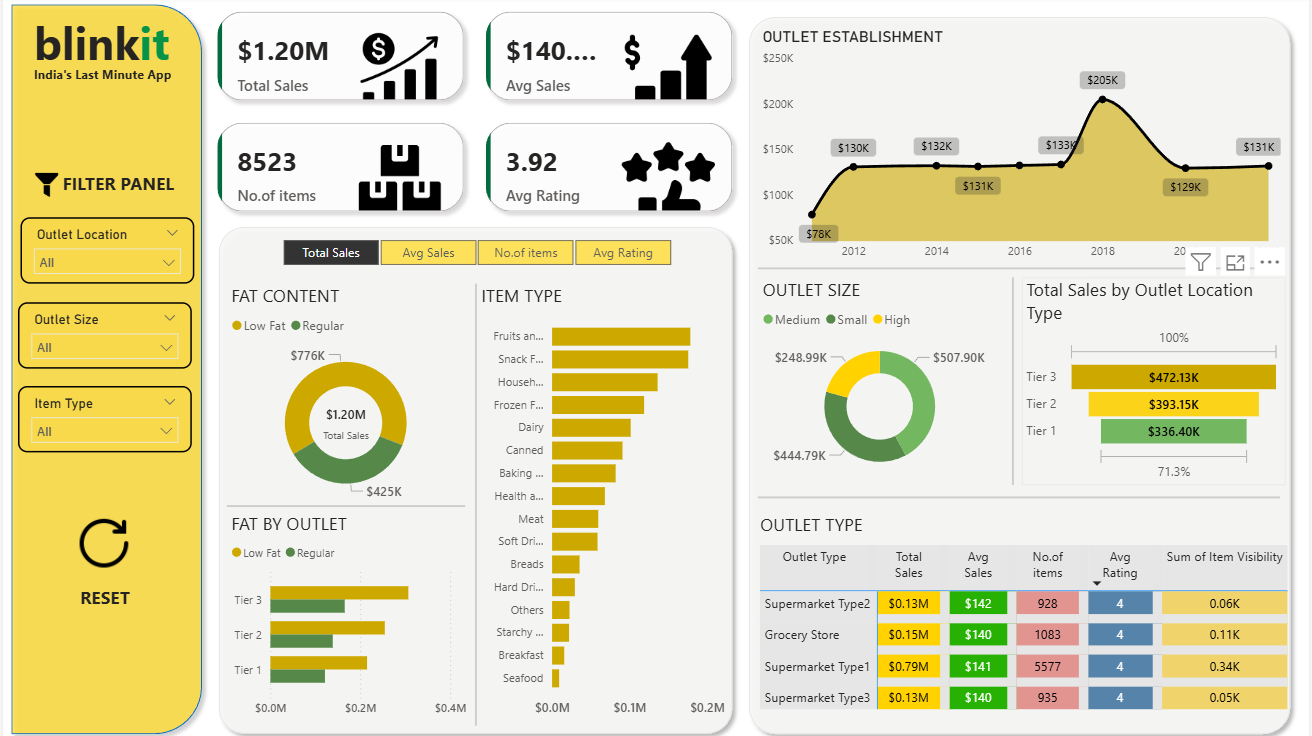

This screenshot's page, from the dashboard's own definition file:
{"tool":"powerbi","page":{"name":"Page 1","canvas":[1400,800],"ordinal":0},"visuals":[{"type":"shape","box":[0,0,222.4,800.6],"z":0},{"type":"textbox","box":[28,12.6,211.7,96.8],"z":1000},{"type":"textbox","box":[28,70.1,279.1,39.3],"z":2000},{"type":"cardVisual","fields":{"Data":["BlinkIT Grocery Data.Total Sales","BlinkIT Grocery Data.Avg Sales","BlinkIT Grocery Data.No.of items","BlinkIT Grocery Data.Avg Rating"]},"box":[213.6,0,586.4,248.5],"z":3000},{"type":"textbox","box":[59.1,183.3,163.6,54.5],"z":4000},{"type":"image","box":[28.8,183.3,37.9,37.9],"z":5000},{"type":"slicer","fields":{"Values":["BlinkIT Grocery Data.Outlet Location Type"]},"box":[18.2,237.9,186.4,71.2],"z":6000},{"type":"slicer","fields":{"Values":["BlinkIT Grocery Data.Outlet Size"]},"box":[16.7,328.8,186.4,71.2],"z":7000},{"type":"slicer","fields":{"Values":["BlinkIT Grocery Data.Item Type"]},"box":[16.7,418.2,186.4,71.2],"z":8000},{"type":"shape","box":[222.9,238.6,568.6,561.4],"z":9000},{"type":"slicer","fields":{"Values":["metrices.metrices"]},"box":[274.4,254.4,465.6,36.7],"z":10000},{"type":"donutChart","title":"FAT CONTENT","fields":{"Y":["BlinkIT Grocery Data.Total Sales"],"Category":["BlinkIT Grocery Data.Item Fat Content"]},"box":[240,308.9,255.6,244.4],"z":11000},{"type":"shape","box":[240,524.3,255.7,45.7],"z":12000},{"type":"shape","box":[488.6,308.6,38.6,474.3],"z":13000},{"type":"card","fields":{"Values":["BlinkIT Grocery Data.Total Sales"]},"box":[322.9,431.4,90,52.9],"z":14000},{"type":"clusteredBarChart","title":"FAT BY OUTLET","fields":{"Y":["BlinkIT Grocery Data.Total Sales"],"Category":["BlinkIT Grocery Data.Outlet Location Type"],"Series":["BlinkIT Grocery Data.Item Fat Content"]},"box":[240,552.9,262.9,230],"z":15000},{"type":"barChart","title":"ITEM TYPE","fields":{"Y":["BlinkIT Grocery Data.Total Sales"],"Category":["BlinkIT Grocery Data.Item Type"]},"box":[508.6,308.6,271.4,474.3],"z":16000},{"type":"shape","box":[791.4,12.9,598.6,787.1],"z":17000},{"type":"lineChart","title":"OUTLET ESTABLISHMENT","fields":{"Y":["BlinkIT Grocery Data.Total Sales"],"Category":["BlinkIT Grocery Data.Outlet Establishment Year"]},"box":[810,32.9,565.7,258.6],"z":18000},{"type":"donutChart","title":"OUTLET SIZE","fields":{"Y":["BlinkIT Grocery Data.Total Sales"],"Category":["BlinkIT Grocery Data.Outlet Size"]},"box":[810,301.4,261.4,222.9],"z":19000},{"type":"shape","box":[810,141.4,560,300],"z":20000},{"type":"shape","box":[1061.4,301.4,42.9,222.9],"z":21000},{"type":"shape","box":[810,524.3,560,27.1],"z":22000},{"type":"funnel","fields":{"Y":["BlinkIT Grocery Data.Total Sales"],"Category":["BlinkIT Grocery Data.Outlet Location Type"]},"box":[1092.9,301.4,282.9,222.9],"z":23000},{"type":"pivotTable","title":"OUTLET TYPE","fields":{"Values":["BlinkIT Grocery Data.Total Sales","BlinkIT Grocery Data.Avg Sales","BlinkIT Grocery Data.No.of items","BlinkIT Grocery Data.Avg Rating","Sum(BlinkIT Grocery Data.Item Visibility)"],"Rows":["BlinkIT Grocery Data.Outlet Type"]},"box":[807.1,554.3,592.9,228.6],"z":24000},{"type":"image","box":[74.7,553.8,66.9,66.9],"z":24001},{"type":"textbox","box":[77.8,626.9,68.4,42],"z":24002}]}

Visuals, with their boxes in screenshot pixels (x1, y1, x2, y2), scaled from the page's 1400x800 canvas onto the 1312x736 screenshot:
shape: (0,0,208,735)
textbox: (26,12,225,101)
textbox: (26,64,288,101)
cardVisual - BlinkIT Grocery Data.Total Sales x BlinkIT Grocery Data.Avg Sales: (200,0,750,229)
textbox: (55,169,209,219)
image: (27,169,63,204)
slicer - BlinkIT Grocery Data.Outlet Location Type: (17,219,192,284)
slicer - BlinkIT Grocery Data.Outlet Size: (16,302,190,368)
slicer - BlinkIT Grocery Data.Item Type: (16,385,190,450)
shape: (209,220,742,735)
slicer - metrices.metrices: (257,234,693,268)
"FAT CONTENT" donutChart: (225,284,464,509)
shape: (225,482,465,524)
shape: (458,284,494,720)
card - BlinkIT Grocery Data.Total Sales: (303,397,387,446)
"FAT BY OUTLET" clusteredBarChart: (225,509,471,720)
"ITEM TYPE" barChart: (477,284,731,720)
shape: (742,12,1303,735)
"OUTLET ESTABLISHMENT" lineChart: (759,30,1289,268)
"OUTLET SIZE" donutChart: (759,277,1004,482)
shape: (759,130,1284,406)
shape: (995,277,1035,482)
shape: (759,482,1284,507)
funnel - BlinkIT Grocery Data.Total Sales x BlinkIT Grocery Data.Outlet Location Type: (1024,277,1289,482)
"OUTLET TYPE" pivotTable: (756,510,1311,720)
image: (70,509,133,571)
textbox: (73,577,137,615)
